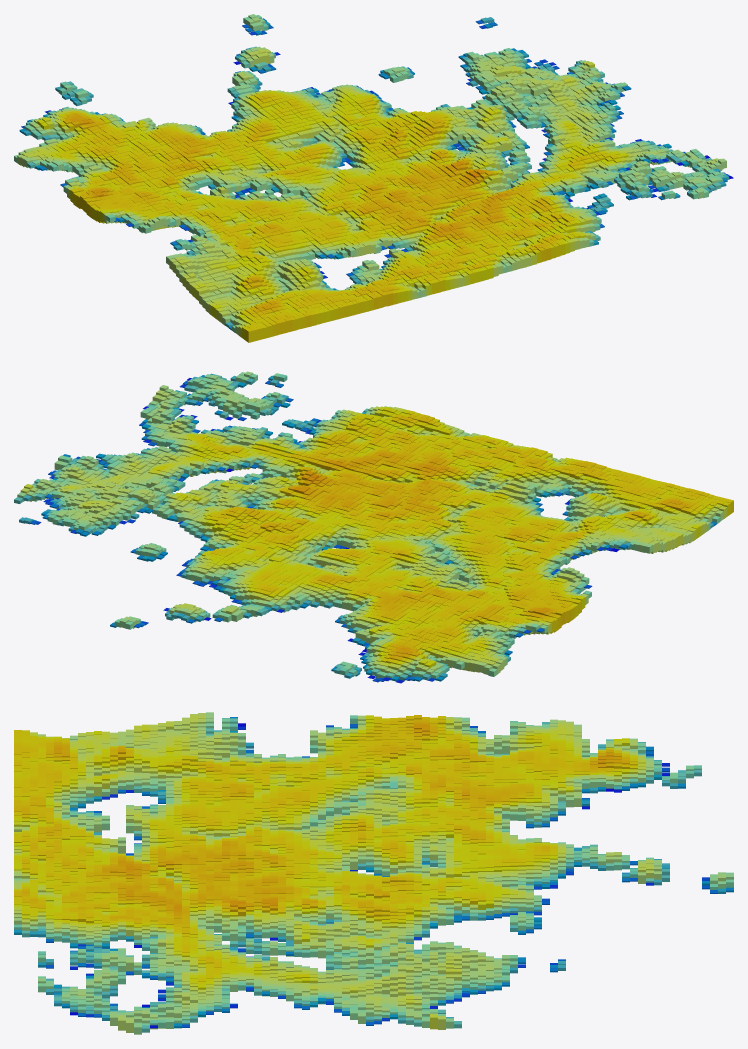
File: population.glb
3 renders of one model, top to bottom at view 1: azimuth 30°, elevation 25°; view 2: azimuth 150°, elevation 25°; view 3: azimuth 270°, elevation 25°, orthographic. The views are drawn at different scales.
Visible parts, largest first — view 1: population; view 2: population; view 3: population.
Boxes of the visible parts, x1=… form: population: x1=14, y1=14, x2=733, y2=342; population: x1=14, y1=371, x2=733, y2=683; population: x1=14, y1=712, x2=733, y2=1034.
Size of the model in its own units: 9027 by 752 by 8968.
